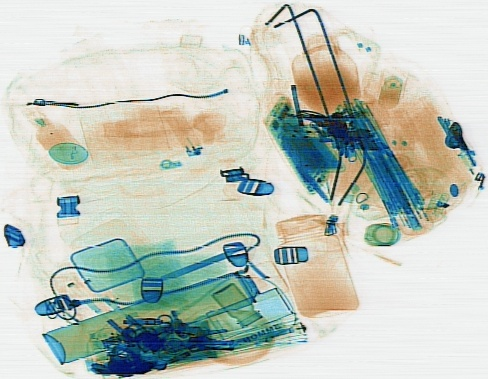lighter: (158, 107, 206, 158)
pressure: (40, 257, 287, 367), (375, 71, 402, 108)
